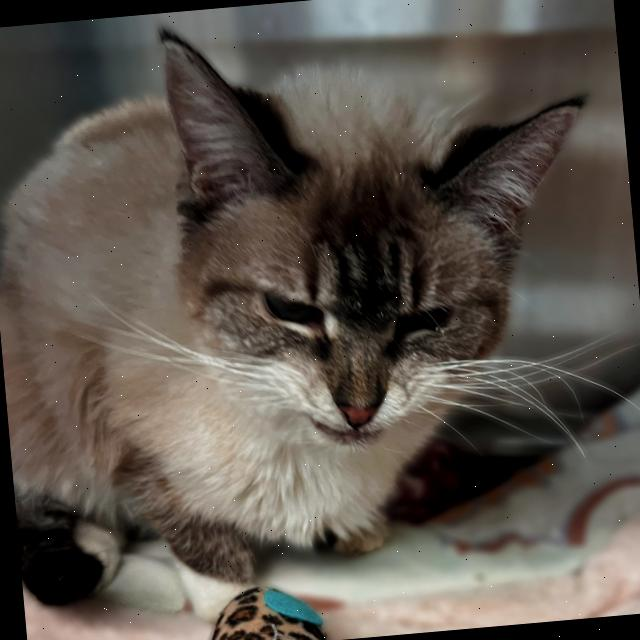siamese_cat: (131, 0, 624, 487)
